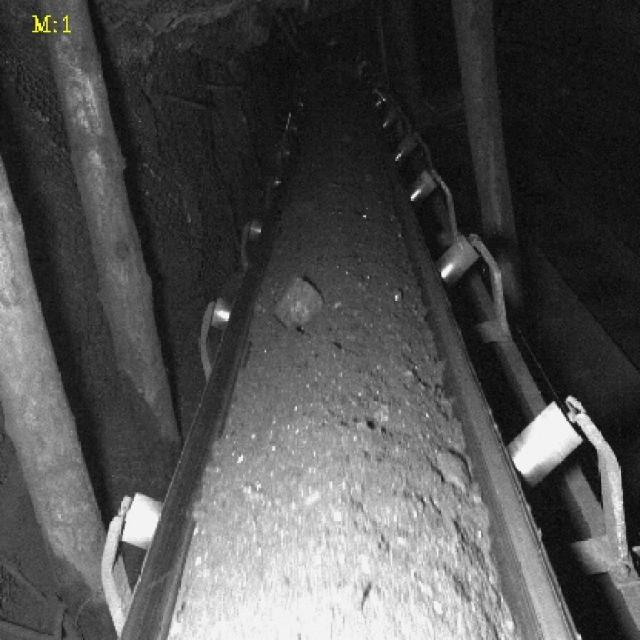large_sized_coal: (274, 274, 323, 328), (432, 448, 472, 490)
